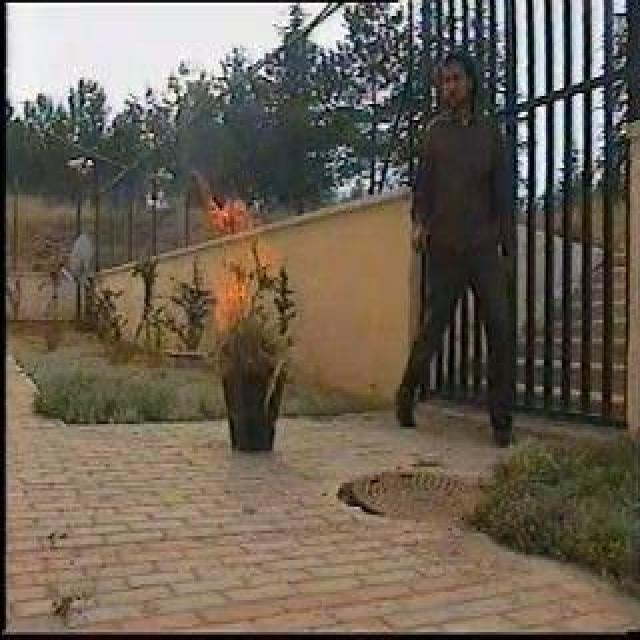fire: (211, 190, 253, 326)
